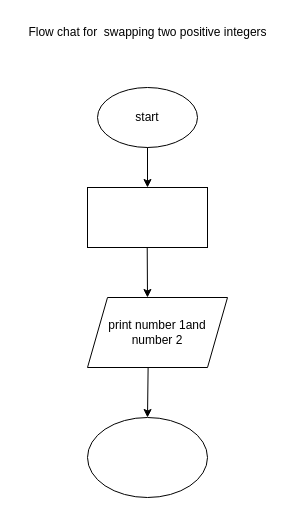
The diagram is 294 pixels wide and 515 high, and some of its shapes have lost their labels. Here are the shapes that lost their labels. From the top down, the centre of each, then its label:
pixel 147 217: temp<---number1 number<---number2 number<---temp
pixel 147 457: stop
